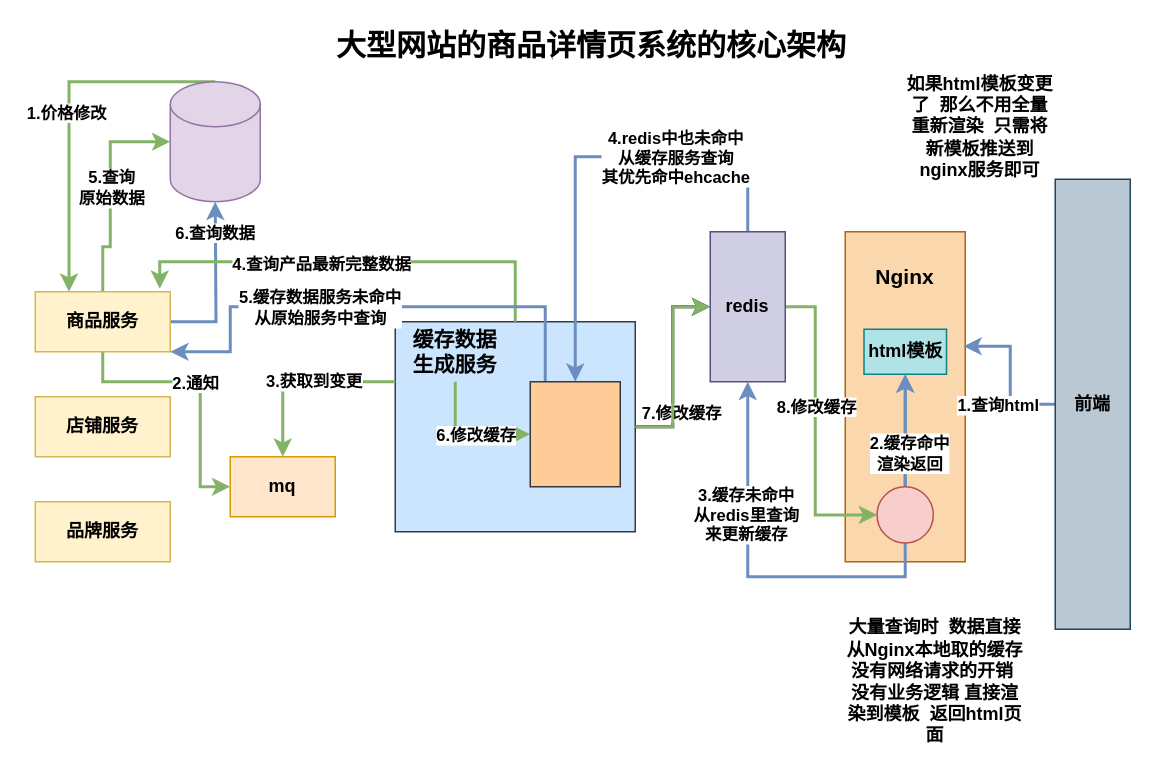
The diagram is 1157 pixels wide and 771 high, and some of its shapes have lost their labels. Here are the shapes that lost their labels. From the top down, the centre of each, then its label:
At pixel 214 141: "mysql".
At pixel 574 433: "ehcache".
At pixel 904 514: "本地 缓存".
